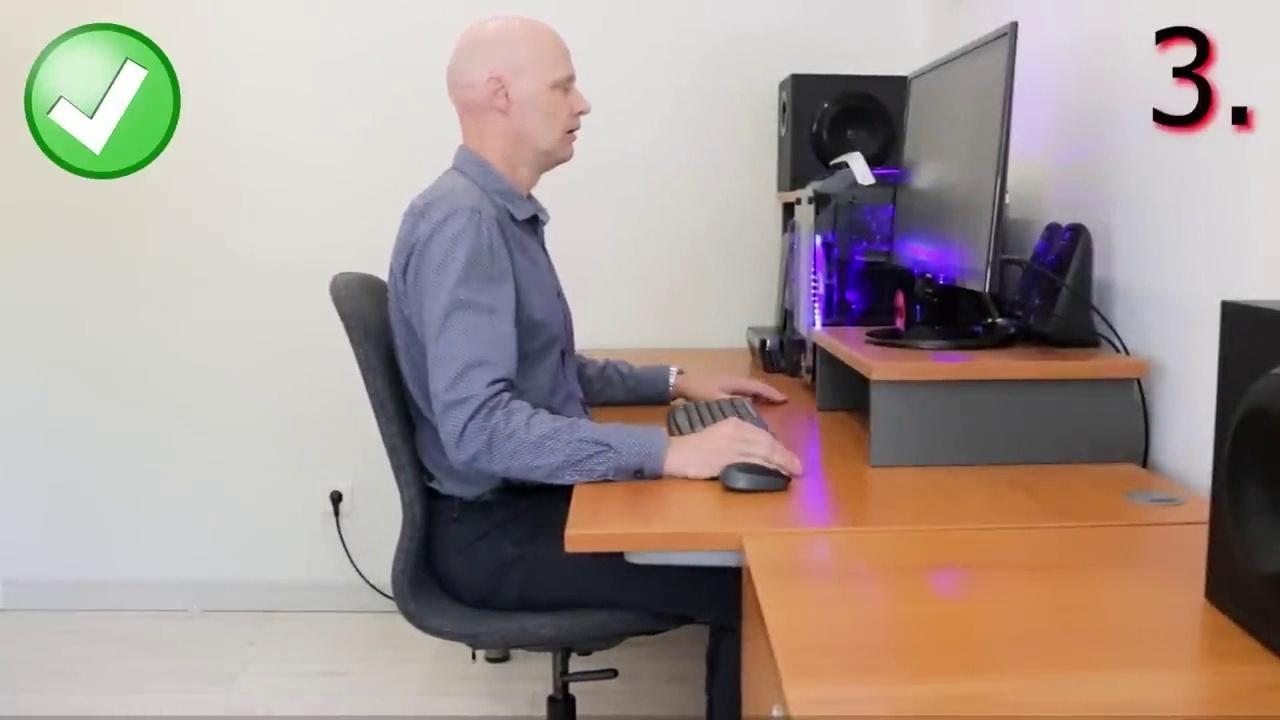GoodPosture: (388, 17, 801, 719)
